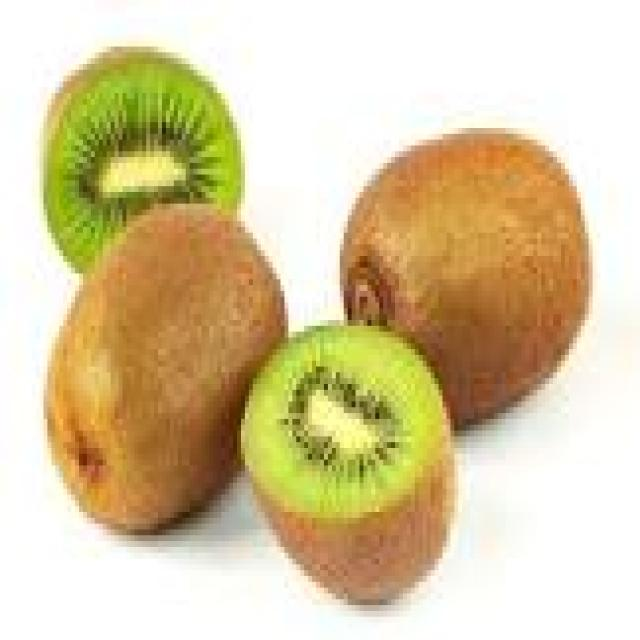kivi: (45, 203, 286, 530), (341, 131, 590, 425), (242, 326, 452, 600), (45, 50, 242, 272)
